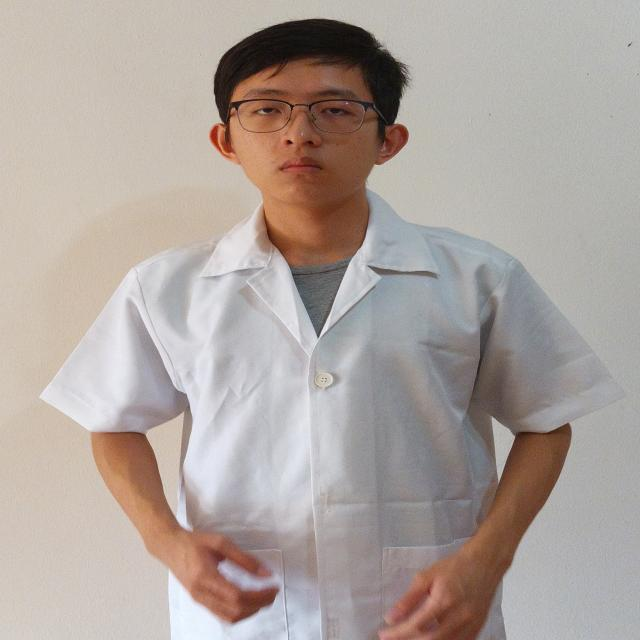person_with_labcoat: (42, 20, 621, 640)
